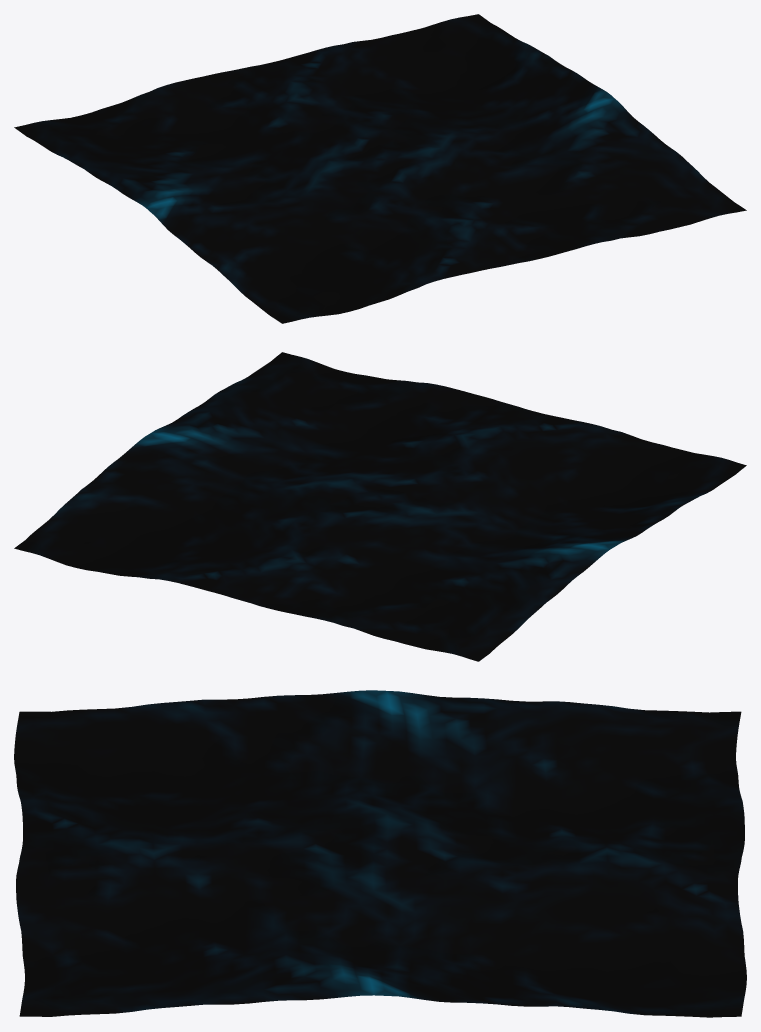
Rendered from Sea(14).glb.
3 renders of one model, top to bottom at view 1: azimuth 30°, elevation 25°; view 2: azimuth 150°, elevation 25°; view 3: azimuth 270°, elevation 25°, orthographic. The views are drawn at different scales.
Visible parts, largest first — view 1: Sea; view 2: Sea; view 3: Sea.
Boxes of the visible parts, left/top/right/bottom form: Sea: left=14, top=14, right=746, bottom=323; Sea: left=14, top=352, right=746, bottom=661; Sea: left=14, top=690, right=746, bottom=1017.
Bounding box in the file's own units: 50.44 × 2.25 × 50.77.
